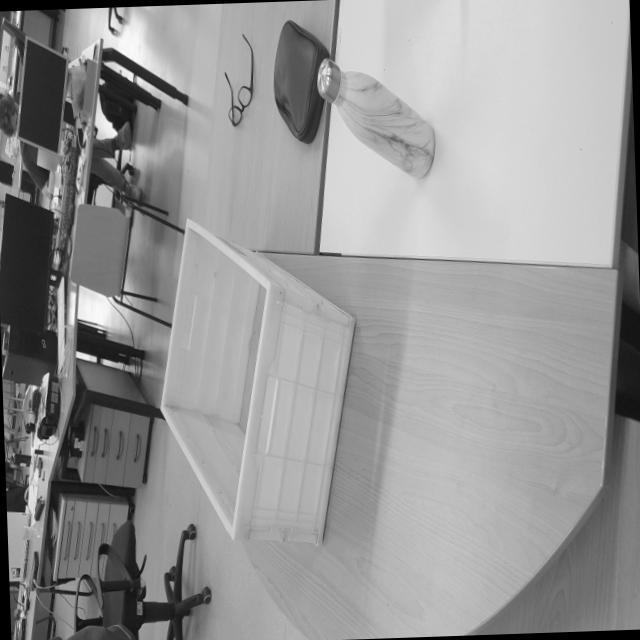box: (149, 199, 370, 587)
